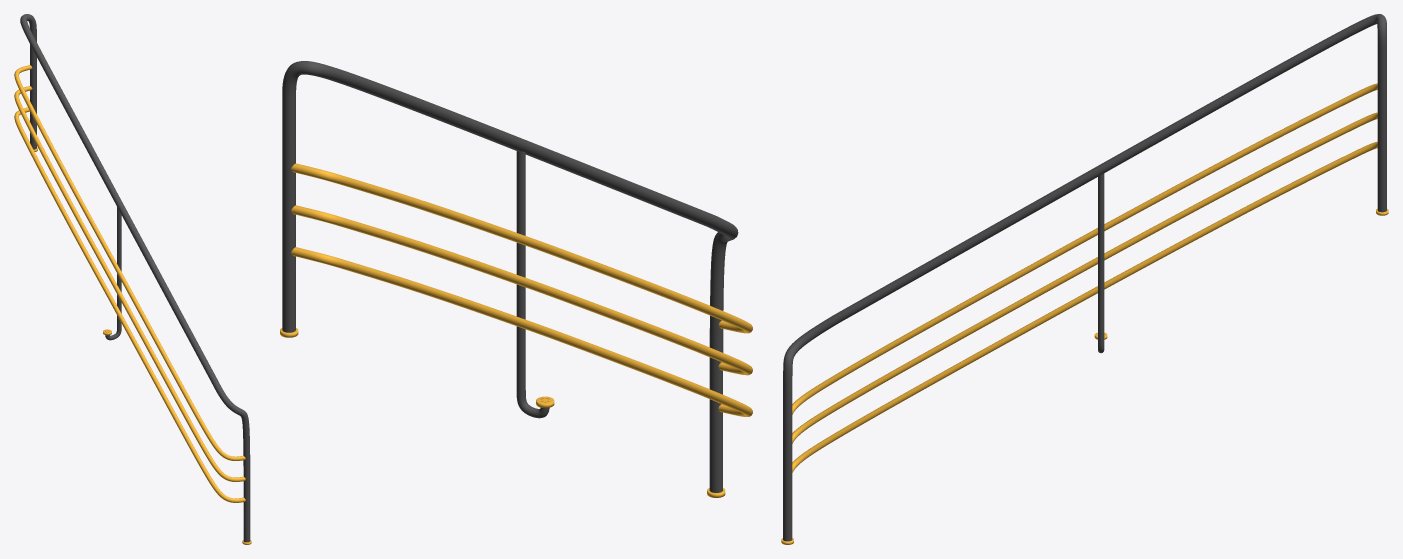
Rendered from RinghieraScale.fbx.
3 views of the same model, side by side, from view 1: azimuth 30°, elevation 25°; view 2: azimuth 150°, elevation 25°; view 3: azimuth 270°, elevation 25° (orthographic). The views are drawn at different scales.
Visible parts, largest first — view 1: MainStruct, BarraOriz3, BarraOriz1, BarraOriz2, BarraVert; view 2: MainStruct, BarraOriz3, BarraOriz2, BarraOriz1, BarraVert; view 3: MainStruct, BarraOriz2, BarraOriz1, BarraOriz3, BarraVert.
Boxes of the visible parts, left/top/right/bottom form: MainStruct: left=20, top=14, right=250, bottom=542; BarraOriz3: left=14, top=65, right=245, bottom=460; BarraOriz1: left=14, top=86, right=245, bottom=481; BarraOriz2: left=14, top=107, right=245, bottom=502; BarraVert: left=105, top=207, right=121, bottom=340; MainStruct: left=282, top=61, right=738, bottom=492; BarraOriz3: left=291, top=163, right=752, bottom=333; BarraOriz2: left=291, top=247, right=752, bottom=416; BarraOriz1: left=291, top=205, right=752, bottom=375; BarraVert: left=516, top=151, right=549, bottom=418; MainStruct: left=783, top=14, right=1386, bottom=541; BarraOriz2: left=792, top=141, right=1377, bottom=472; BarraOriz1: left=792, top=112, right=1377, bottom=443; BarraOriz3: left=792, top=83, right=1377, bottom=414; BarraVert: left=1098, top=173, right=1104, bottom=353.
Bounding box in the file's own units: 34.94 × 358 × 378.
